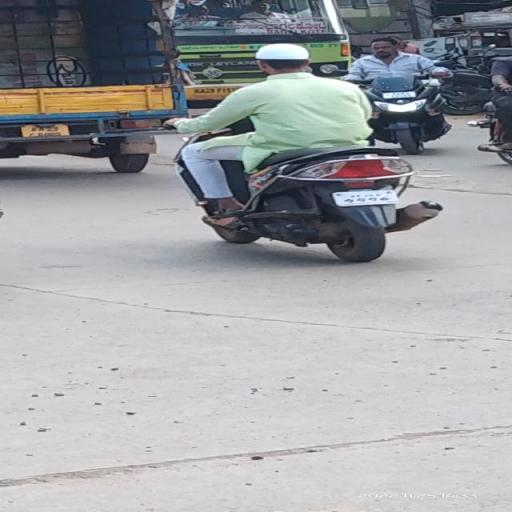bike: (159, 42, 443, 264)
withouthelmet: (258, 43, 311, 74)
